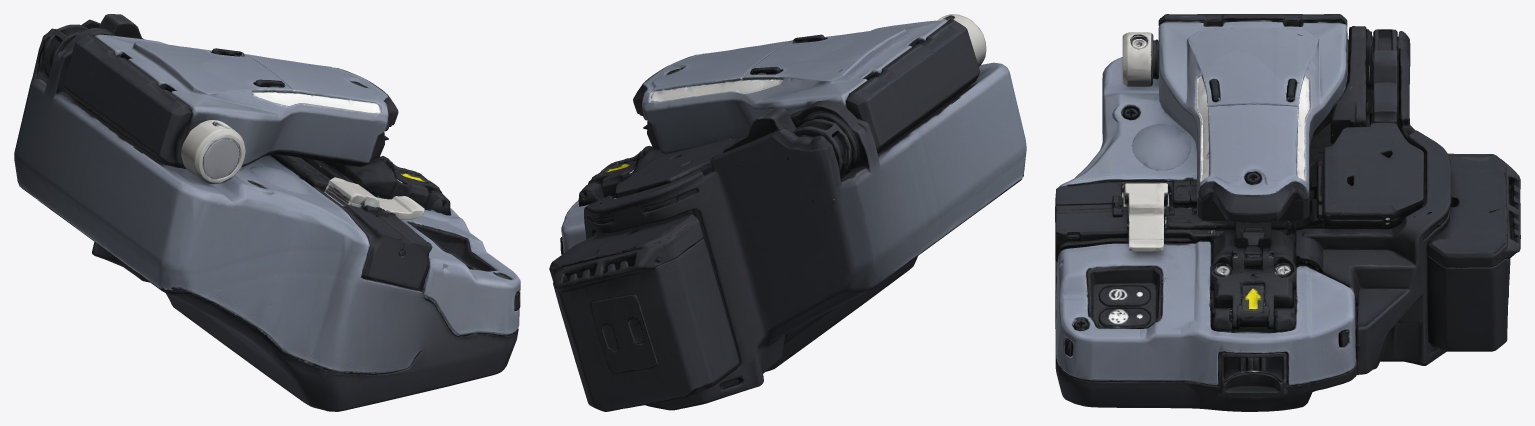
The model's file is ct50-parts.glb.
The picture shows the model from 3 angles, left to right: view 1: azimuth 30°, elevation 25°; view 2: azimuth 150°, elevation 25°; view 3: azimuth 270°, elevation 25°; orthographic projection. The views are drawn at different scales.
Parts seen in each view (by area): view 1: tripo_part_0, tripo_part_1, tripo_part_9, tripo_part_5, tripo_part_4, tripo_part_2, tripo_part_6; view 2: tripo_part_2, tripo_part_1, tripo_part_3, tripo_part_0, tripo_part_4, tripo_part_5, tripo_part_9; view 3: tripo_part_0, tripo_part_1, tripo_part_2, tripo_part_3, tripo_part_5, tripo_part_4, tripo_part_9, tripo_part_7, tripo_part_8.
Part boxes in pixels (x1,y1,x2,y2): tripo_part_0: (23,92,520,411); tripo_part_1: (62,34,398,169); tripo_part_9: (181,120,245,184); tripo_part_5: (324,156,451,215); tripo_part_4: (41,14,143,117); tripo_part_2: (14,19,149,282); tripo_part_6: (270,154,322,174); tripo_part_2: (584,128,893,410); tripo_part_1: (633,19,979,154); tripo_part_3: (549,211,739,411); tripo_part_0: (560,62,1026,371); tripo_part_4: (722,100,883,193); tripo_part_5: (578,146,665,206); tripo_part_9: (937,14,986,66); tripo_part_0: (1055,57,1425,411); tripo_part_1: (1158,14,1348,249); tripo_part_2: (1288,31,1451,374); tripo_part_3: (1426,153,1520,351); tripo_part_5: (1210,229,1296,332); tripo_part_4: (1330,26,1398,143); tripo_part_9: (1122,32,1158,86); tripo_part_7: (1164,213,1291,235); tripo_part_8: (1164,179,1196,215).
Size of the model in its own units: 0.7895 by 0.6338 by 0.9793.
11 materials, 11 textured.
